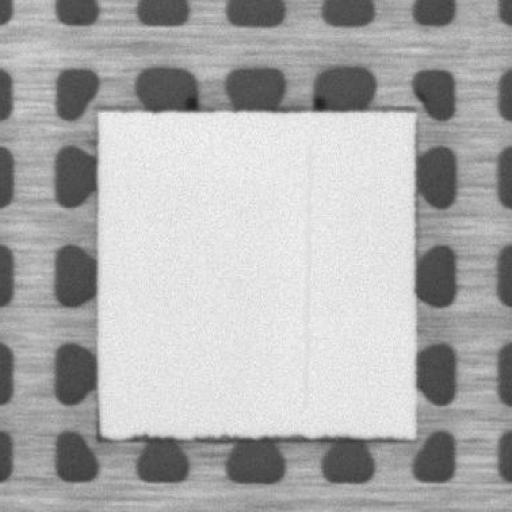DIE_CRACK: (314, 141, 318, 394)
